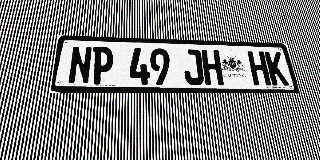4: (129, 48, 150, 85)
9: (150, 48, 171, 85)
H: (247, 51, 271, 85), (201, 50, 224, 85)
J: (182, 49, 204, 85)
K: (264, 52, 289, 86)
N: (67, 46, 93, 84)
P: (90, 46, 114, 84)
